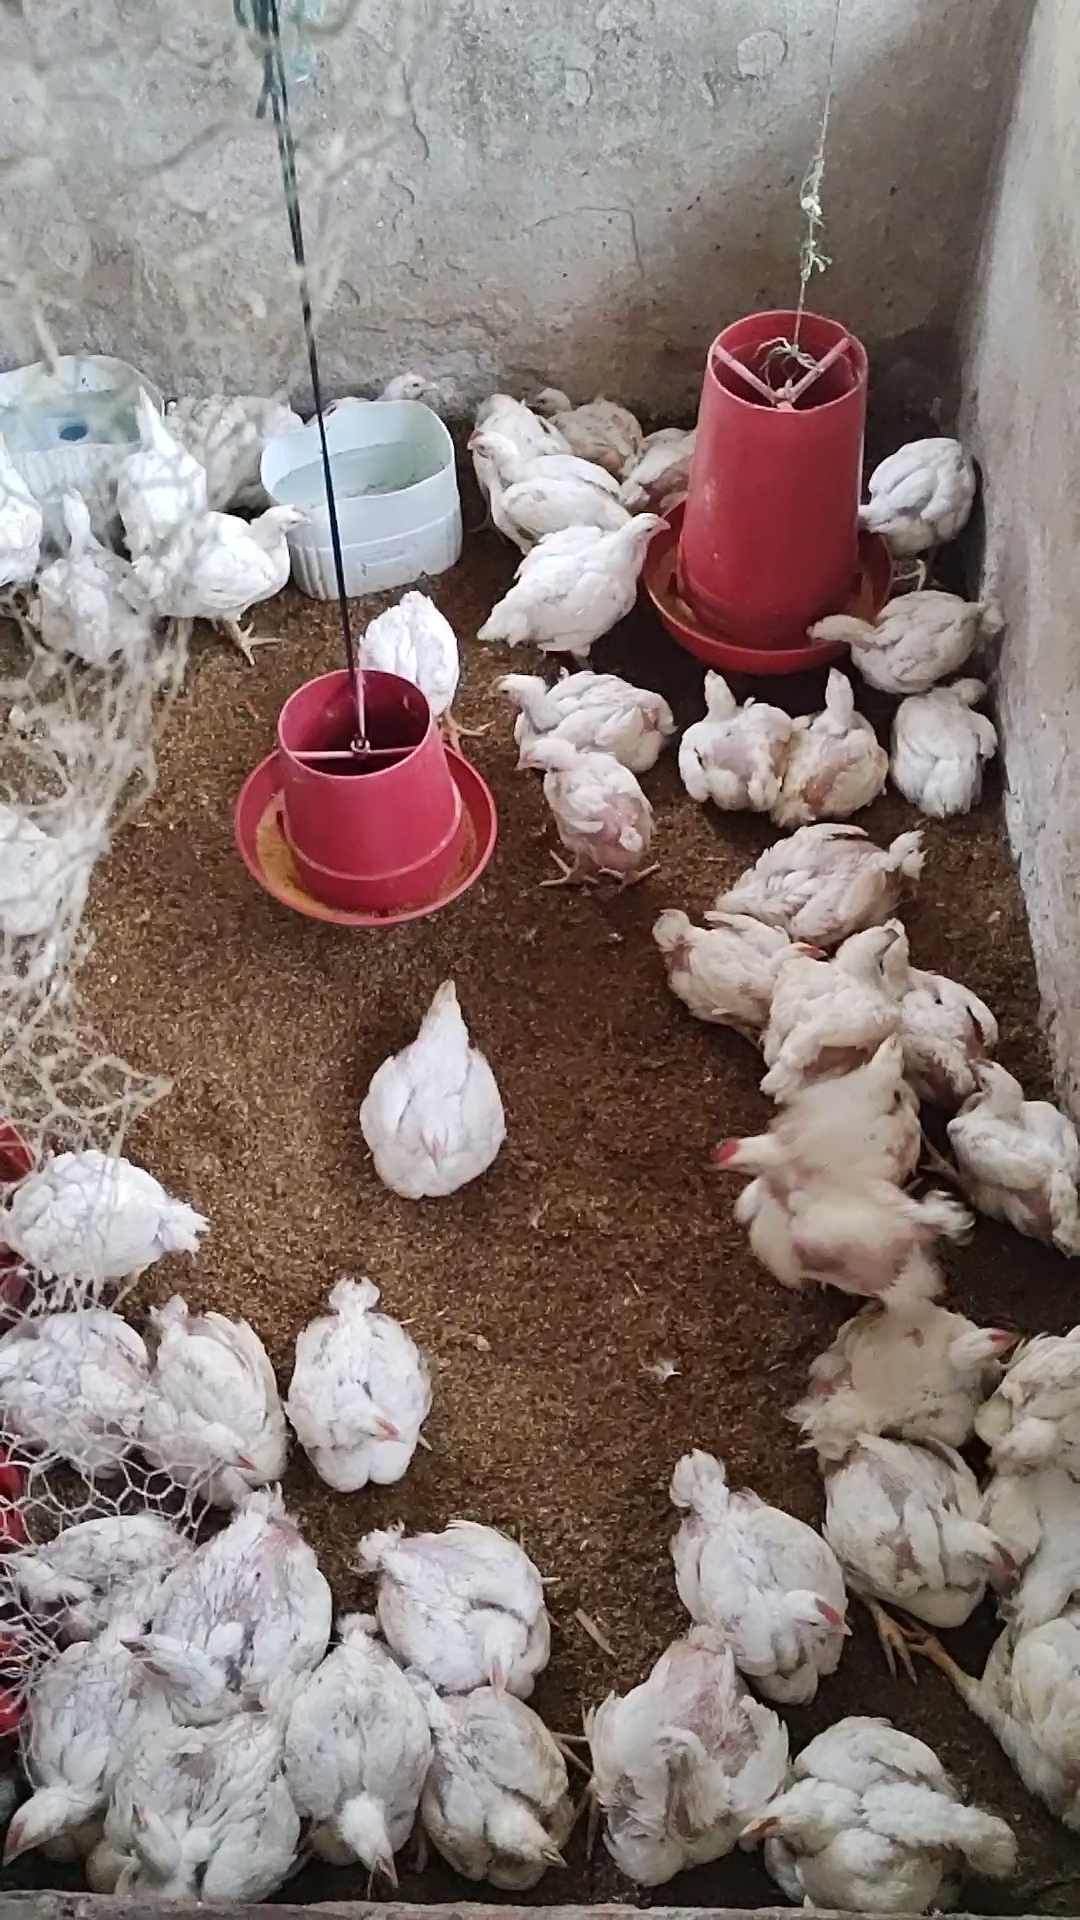Pollos: (735, 1709, 1021, 1908), (657, 1441, 866, 1702), (574, 1629, 787, 1883), (702, 1106, 967, 1309), (280, 1605, 454, 1883), (0, 1615, 187, 1870), (406, 1654, 595, 1898), (123, 1671, 303, 1915), (824, 1423, 1015, 1648), (353, 1510, 571, 1695), (284, 1274, 458, 1501), (141, 1280, 315, 1501), (154, 1487, 326, 1706), (795, 1305, 1015, 1468), (353, 971, 500, 1205), (0, 1147, 208, 1300), (477, 516, 680, 666), (947, 1600, 1080, 1825), (767, 923, 902, 1126), (945, 1047, 1080, 1244), (153, 492, 318, 650), (509, 732, 661, 903), (725, 806, 920, 938), (353, 579, 487, 754), (640, 890, 793, 1042), (882, 916, 1013, 1091), (480, 661, 663, 781), (455, 429, 626, 554), (808, 578, 1006, 683), (848, 429, 986, 579), (771, 666, 895, 822), (676, 663, 795, 803), (882, 671, 1004, 804), (42, 473, 138, 638), (111, 376, 216, 522), (531, 375, 644, 468), (469, 384, 563, 473), (355, 360, 447, 404)
